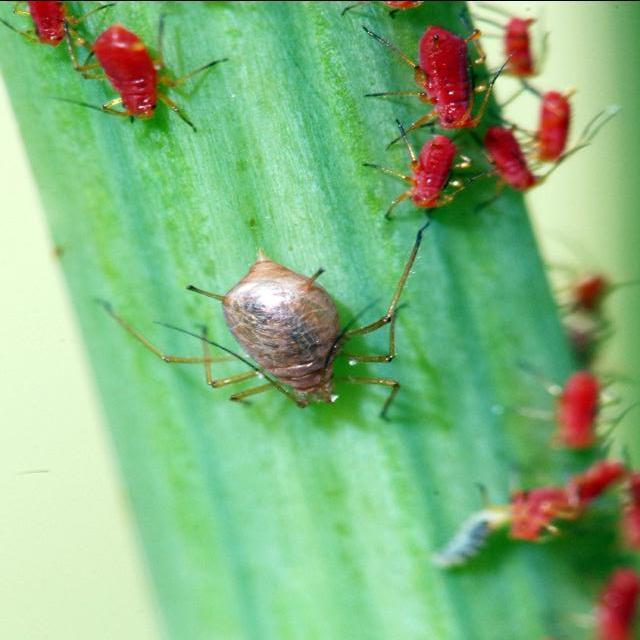aphid: (116, 220, 460, 456), (65, 18, 197, 137), (390, 22, 505, 132), (478, 114, 550, 214), (492, 8, 574, 90), (389, 134, 474, 212), (526, 82, 597, 172), (17, 0, 78, 52)
